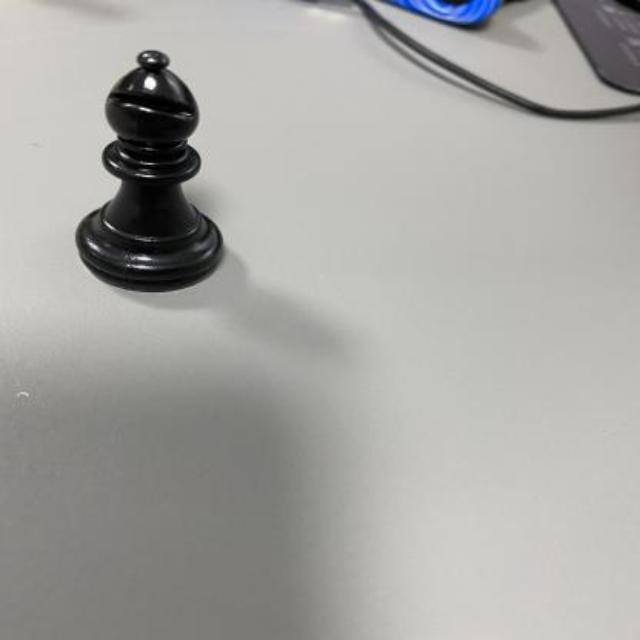black-bishop: (73, 51, 222, 292)
